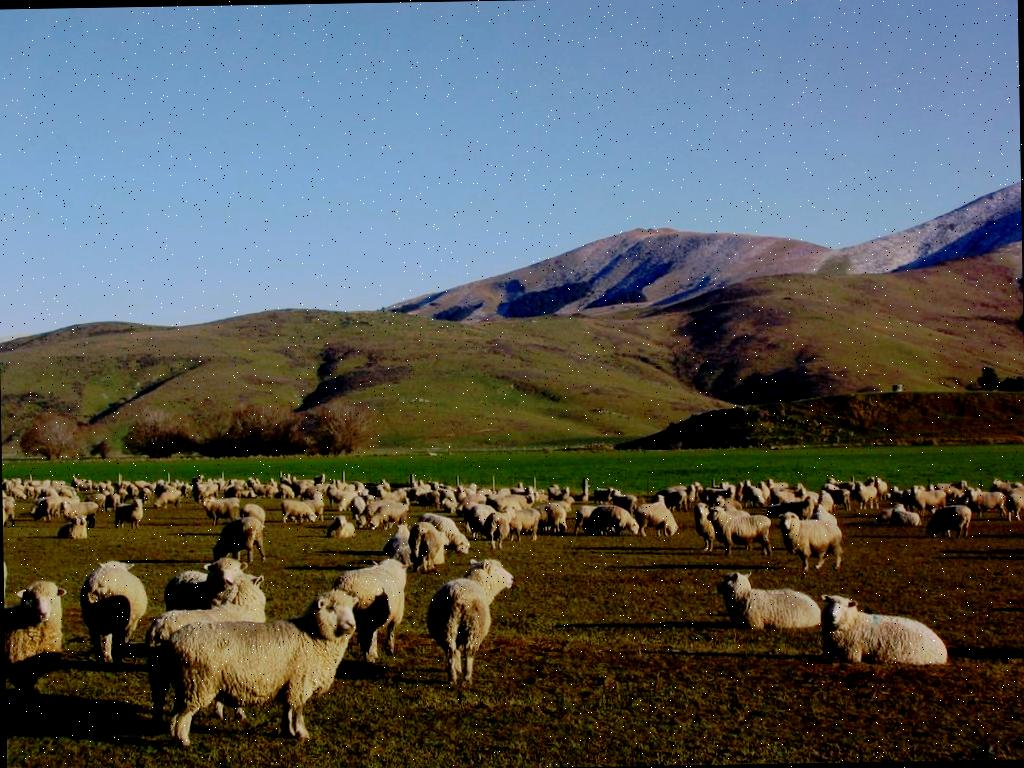Sheep: (174, 587, 380, 750), (817, 580, 967, 696), (416, 554, 538, 694), (4, 578, 68, 716), (78, 558, 148, 666), (714, 570, 822, 632), (767, 500, 853, 572), (162, 556, 260, 614), (700, 504, 770, 557), (211, 515, 266, 565), (578, 504, 636, 538), (924, 502, 974, 540), (418, 512, 468, 550), (410, 522, 446, 572), (632, 495, 674, 535), (462, 502, 498, 537), (533, 500, 570, 532), (365, 499, 405, 526), (112, 496, 142, 529), (280, 498, 318, 524), (766, 497, 808, 519), (882, 503, 922, 526), (809, 500, 840, 526), (56, 515, 88, 539), (1002, 489, 1024, 521), (712, 496, 748, 514), (336, 488, 362, 511), (960, 486, 984, 510), (484, 494, 514, 512), (200, 496, 220, 520), (224, 497, 242, 521), (530, 500, 556, 514)
